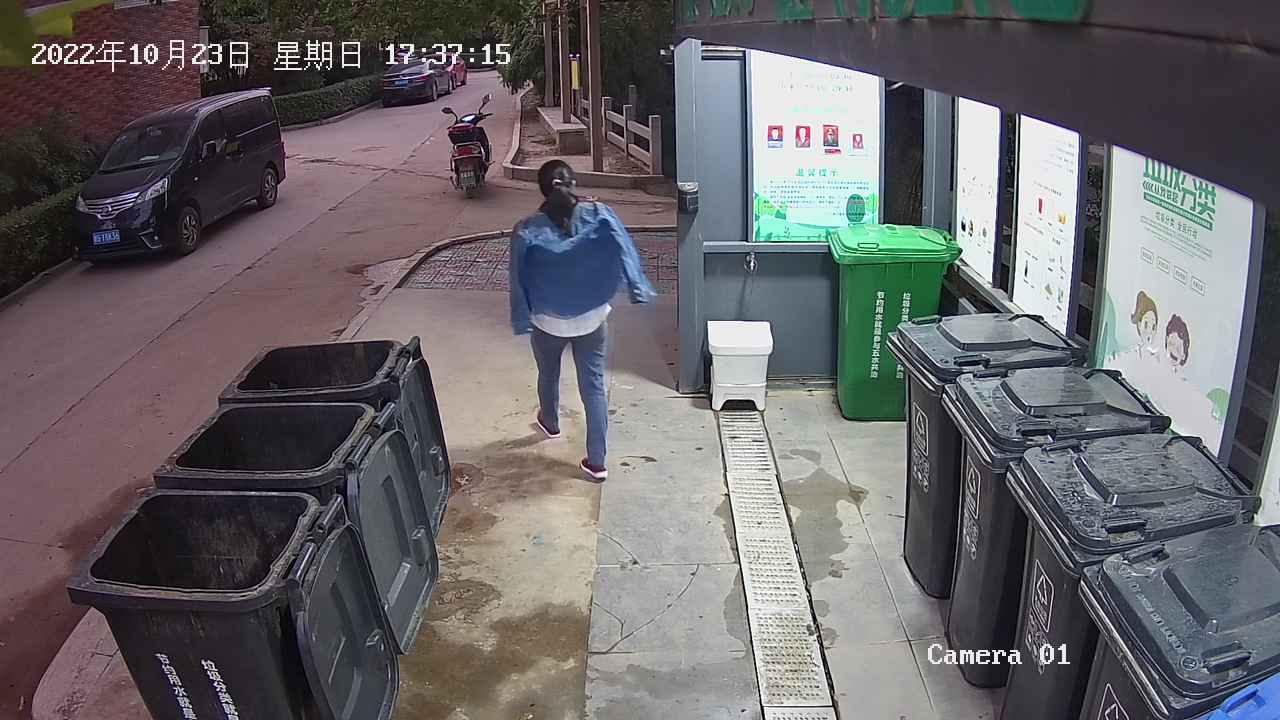worker: (506, 158, 659, 480)
